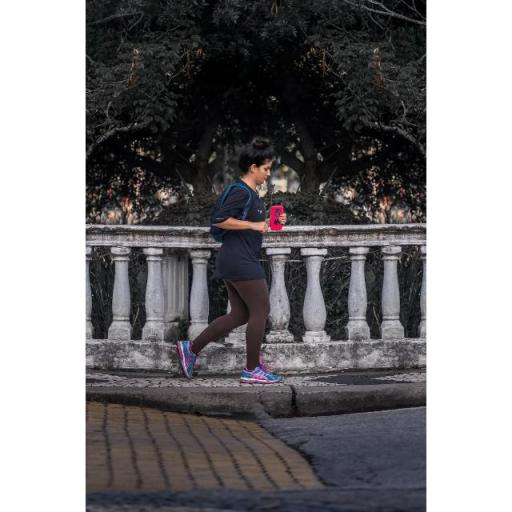Running: (168, 127, 311, 393)
